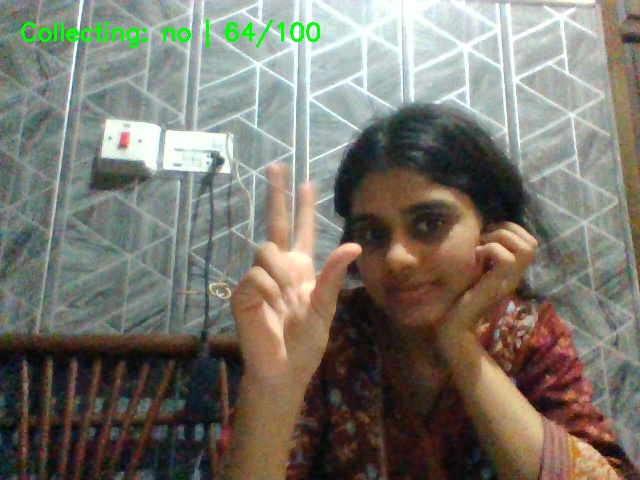no: (223, 148, 363, 386)
